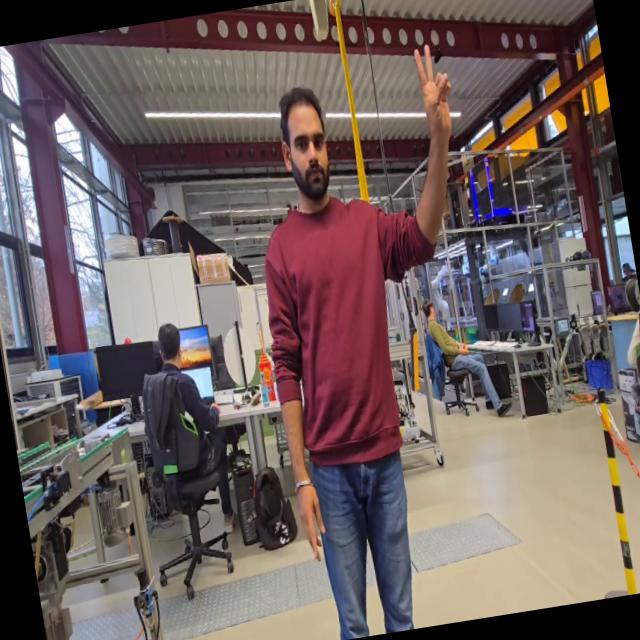v_sign: (408, 38, 462, 147)
